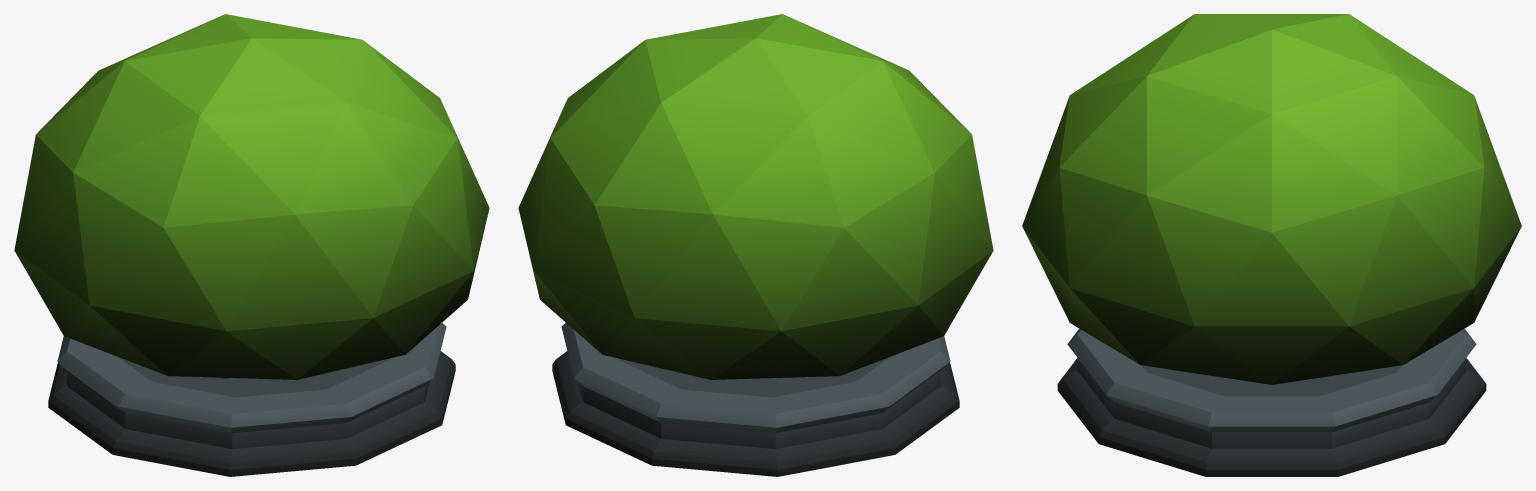
Rendered from FlatVase_Green.fbx.
3 renders of one model, left to right at view 1: azimuth 30°, elevation 25°; view 2: azimuth 150°, elevation 25°; view 3: azimuth 270°, elevation 25°, orthographic. The views are drawn at different scales.
Parts seen in each view (by area): view 1: FlatVase_Green; view 2: FlatVase_Green; view 3: FlatVase_Green.
Boxes of the visible parts, <box> form: FlatVase_Green: <box>14,14,489,476</box>; FlatVase_Green: <box>518,14,993,476</box>; FlatVase_Green: <box>1022,14,1521,476</box>.
Bounding box in the file's own units: 280 × 235 × 294.
